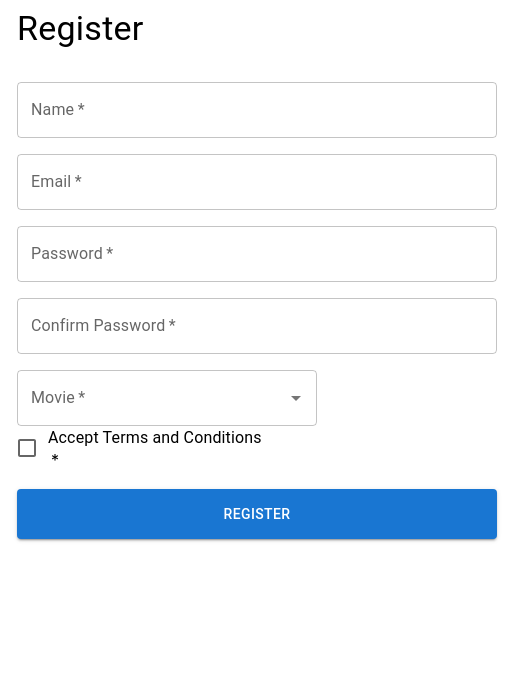
Test Validate Password › It should have length more than 4 character
Type "123" into the password field with test id "password-field-id".
click(257, 254); type("123")  # box [17,226,497,282]
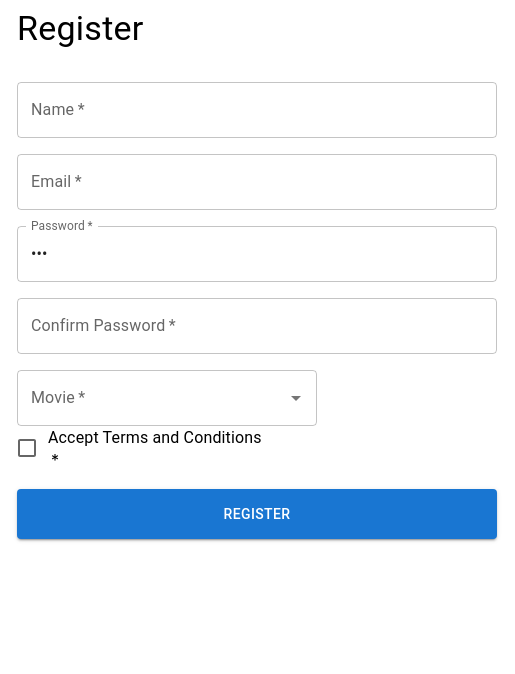
Click the button "Register".
click(257, 514)  # box [17,489,497,539]
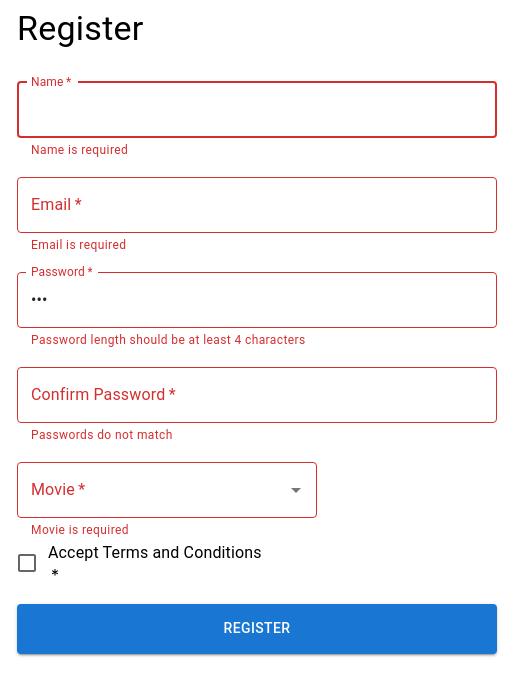
expect the text "Password length should be at least 4 characters" is shown: met, box [31,333,306,347]
